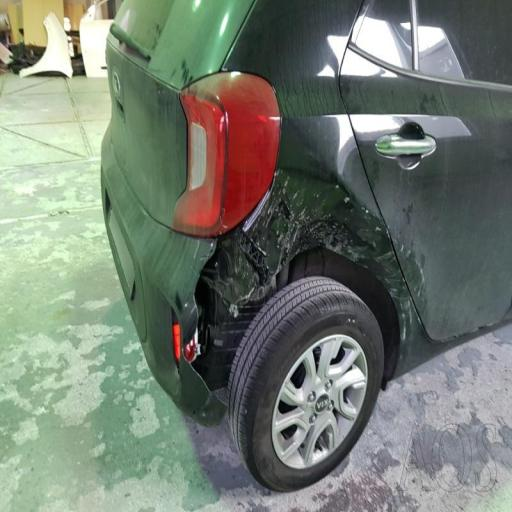broken: (156, 120, 429, 411)
